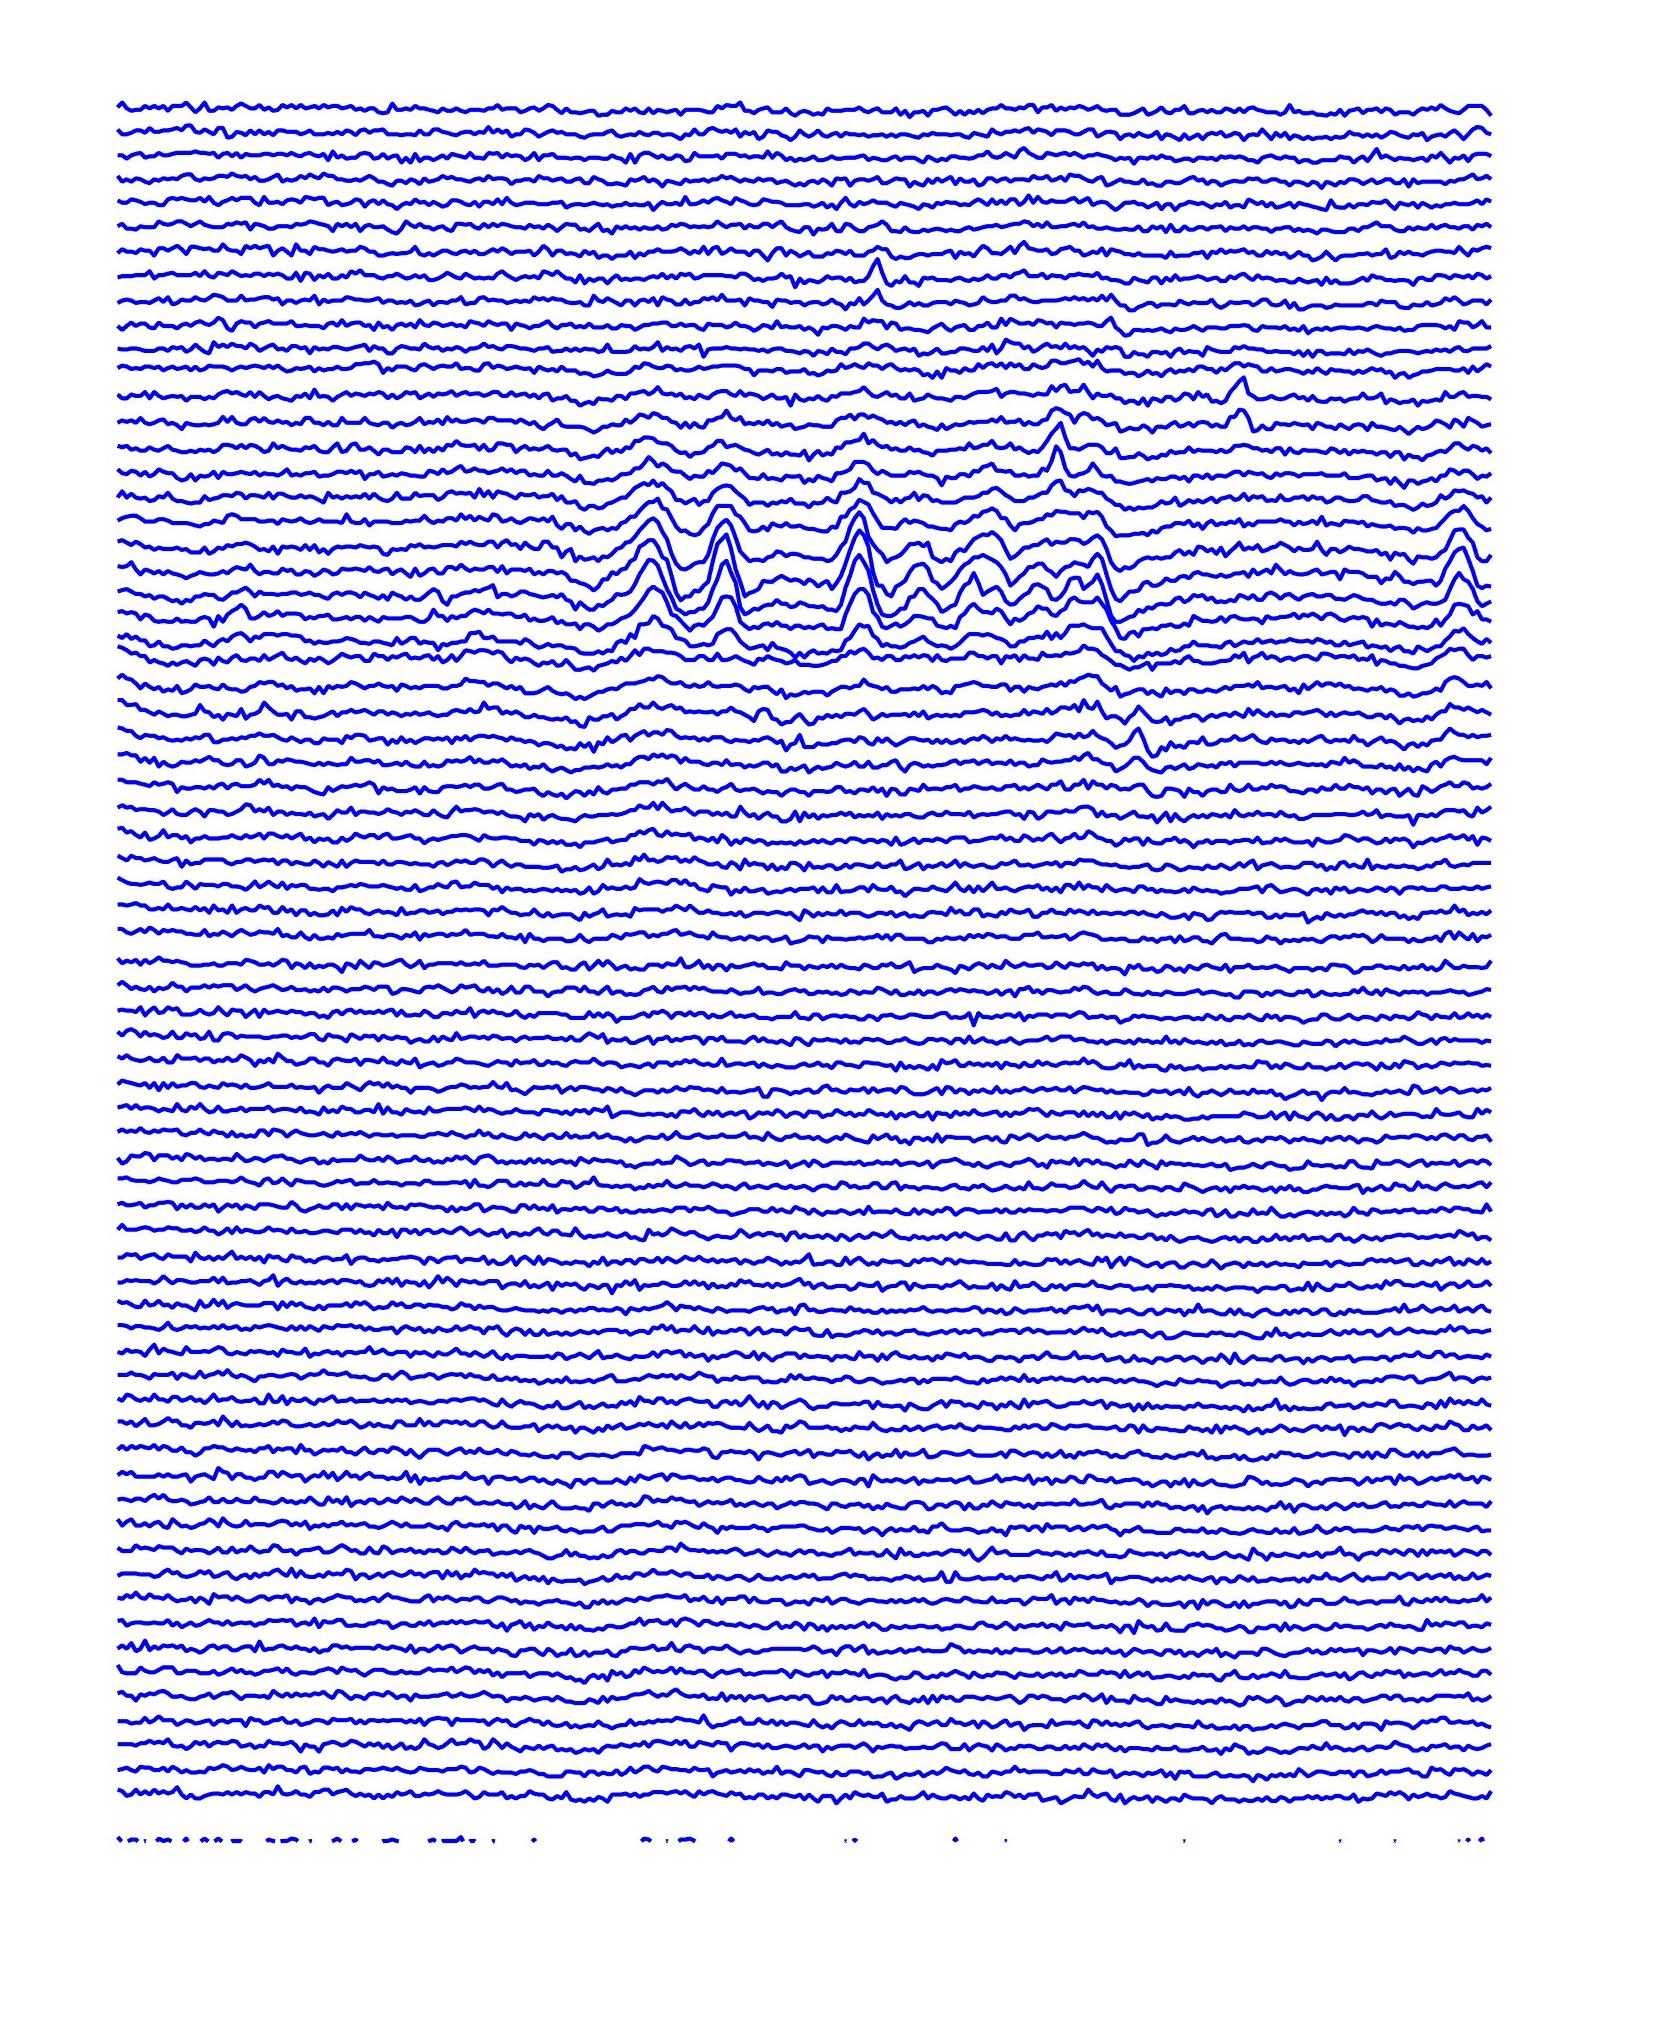defect: (835, 510, 1125, 665), (620, 455, 758, 674), (1409, 495, 1492, 665), (837, 236, 914, 337), (1206, 344, 1265, 451), (1024, 386, 1084, 478)
